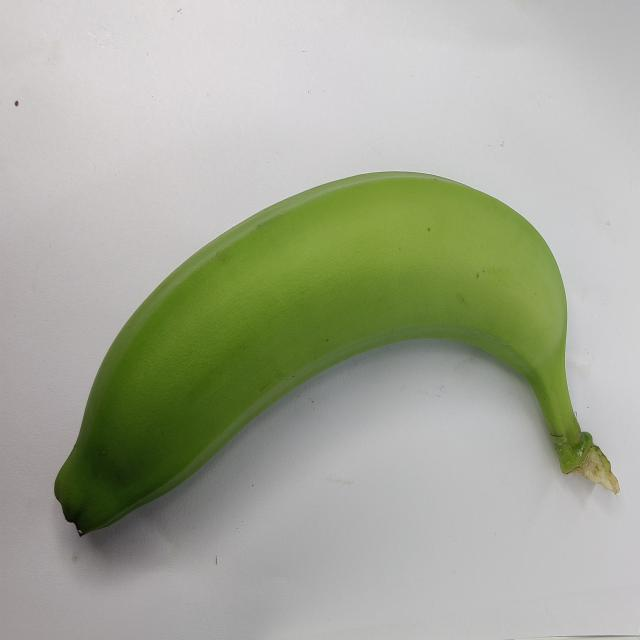Raw: (32, 162, 625, 550)
